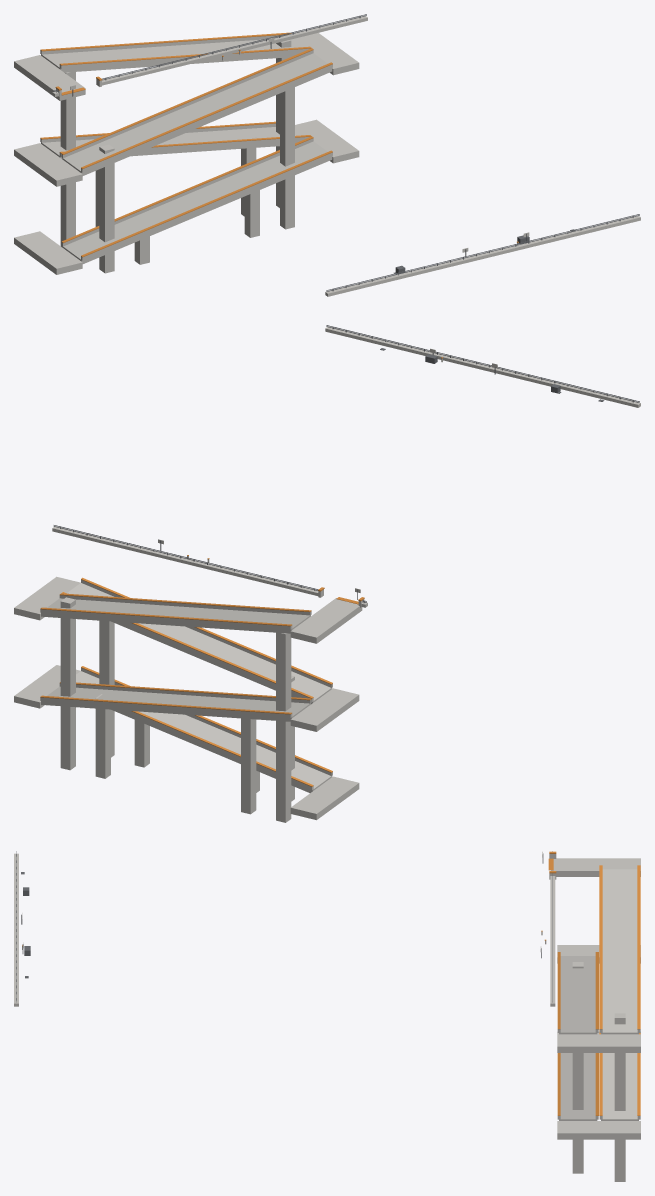
Rendered from SM_Mega_Ramp.fbx.
The picture shows the model from 3 angles, top to bottom: view 1: azimuth 30°, elevation 25°; view 2: azimuth 150°, elevation 25°; view 3: azimuth 270°, elevation 25°; orthographic projection.
Parts seen in each view (by area): view 1: SM_Mega_Ramp; view 2: SM_Mega_Ramp; view 3: SM_Mega_Ramp.
Part boxes in pixels (x1,y1,x2,y2): SM_Mega_Ramp: (14, 14, 640, 296); SM_Mega_Ramp: (14, 325, 640, 822); SM_Mega_Ramp: (14, 851, 640, 1181).
Bounding box in the file's own units: 8400 × 5395 × 14825.
